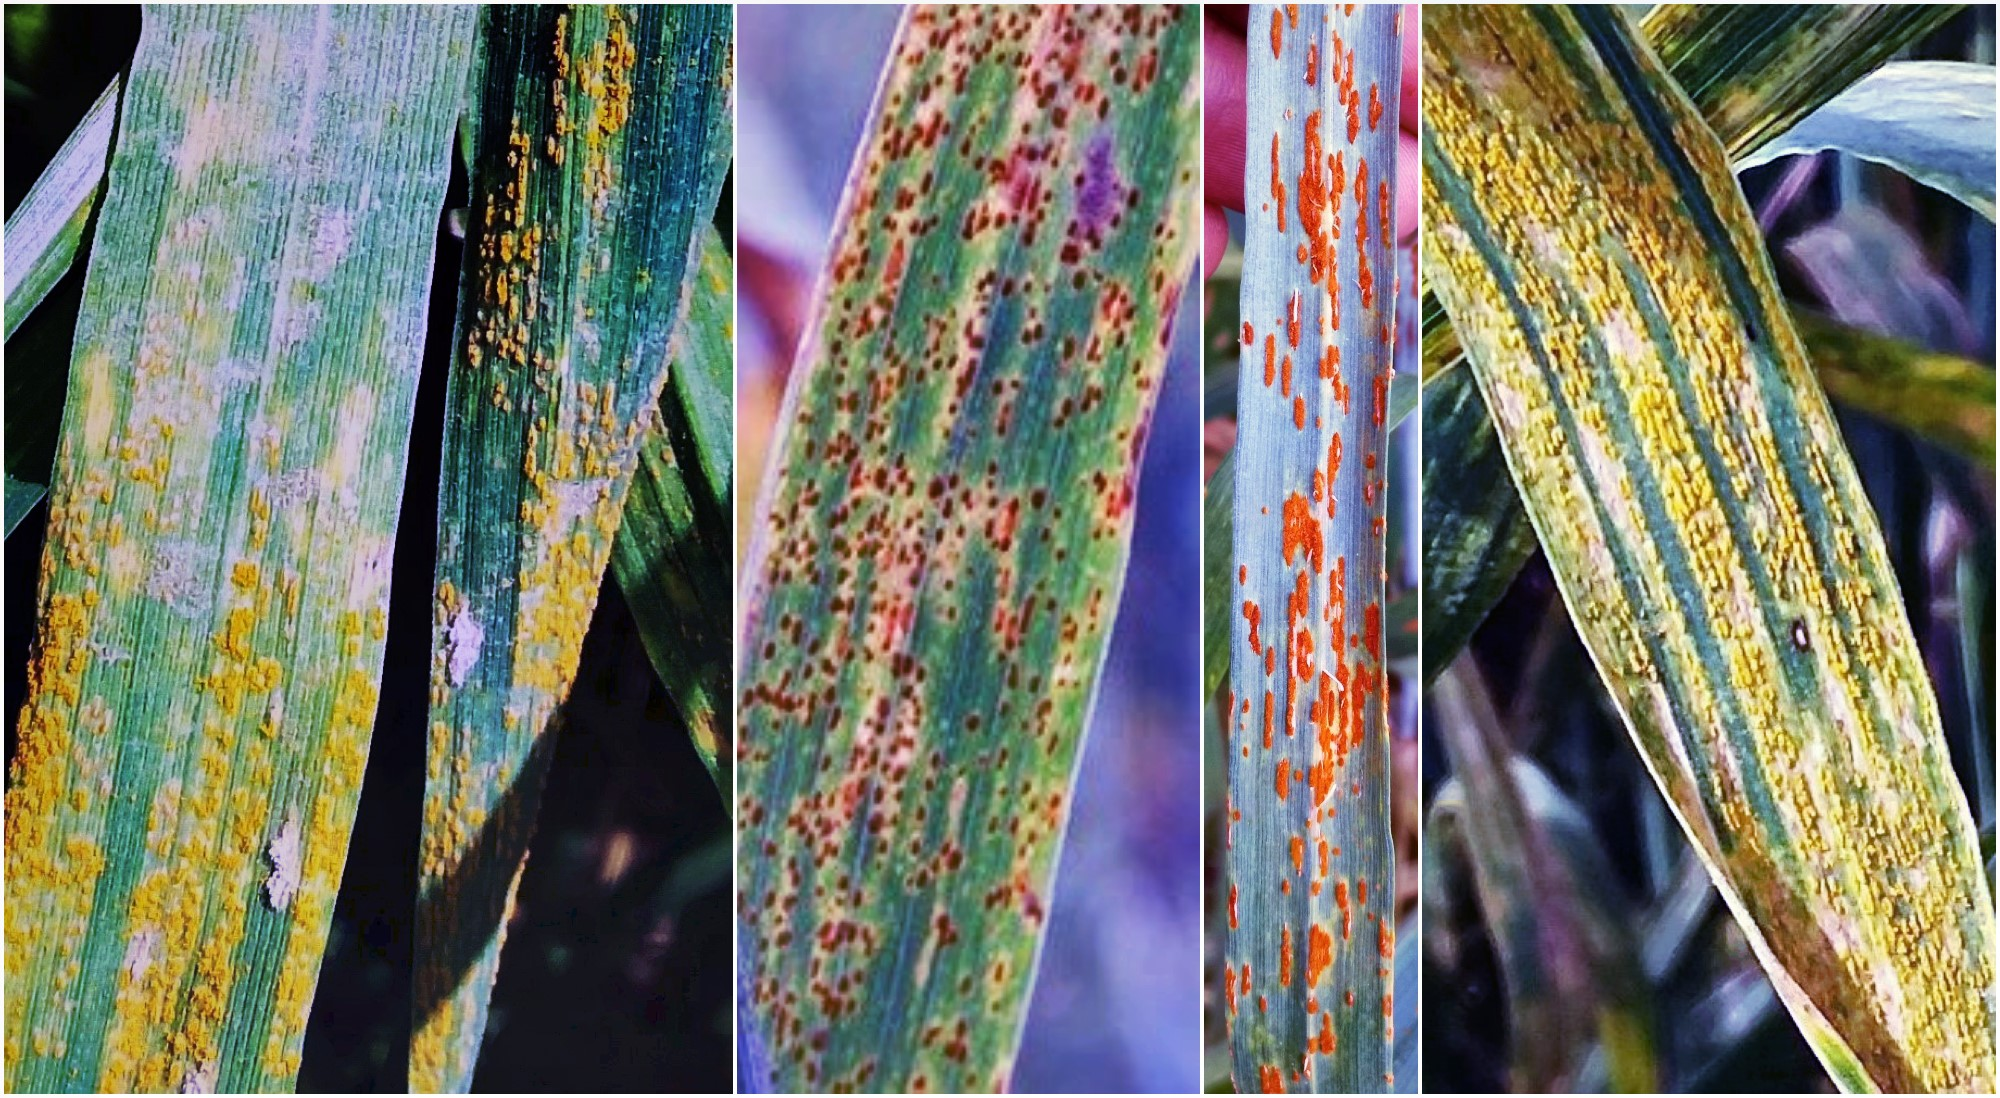Leaf Rust: (1456, 176, 2000, 1089), (765, 14, 1217, 1011), (1, 460, 391, 1098)
